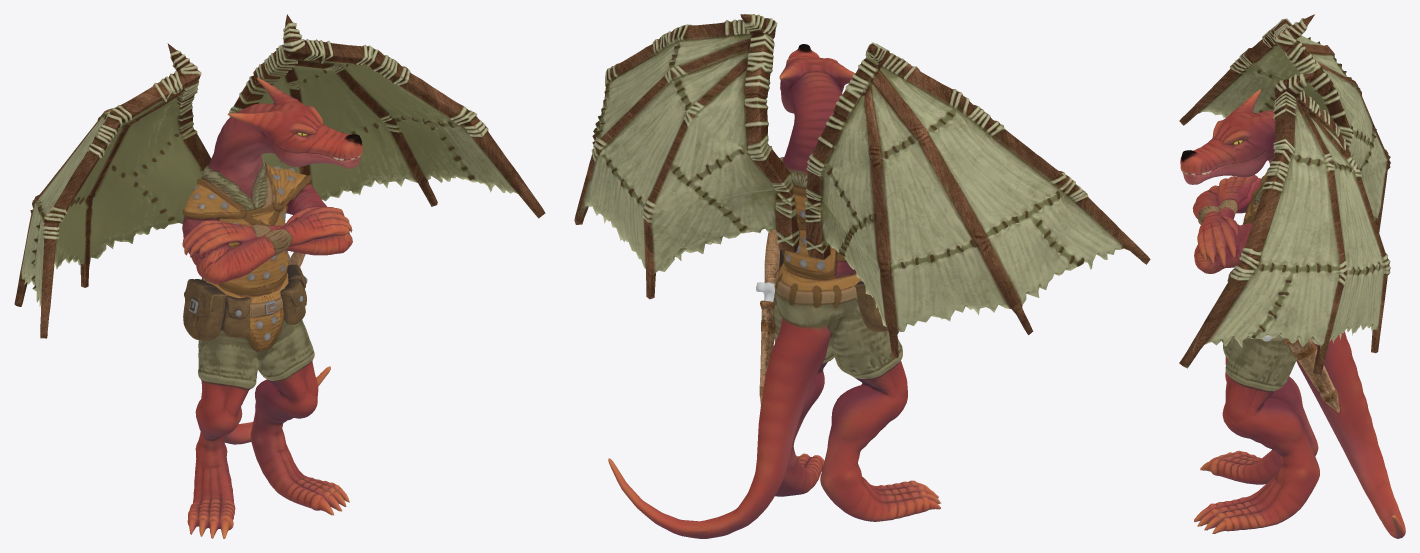
File: MZ4250 - Trex the Kobold.glb
The picture shows the model from 3 angles, left to right: view 1: azimuth 30°, elevation 25°; view 2: azimuth 150°, elevation 25°; view 3: azimuth 270°, elevation 25°; orthographic projection. The views are drawn at different scales.
Parts seen in each view (by area): view 1: Kobold Based body for rigging.004; view 2: Kobold Based body for rigging.004; view 3: Kobold Based body for rigging.004.
Boxes of the visible parts, x1,y1,x2,y2 form: Kobold Based body for rigging.004: [14, 14, 545, 538]; Kobold Based body for rigging.004: [574, 14, 1150, 538]; Kobold Based body for rigging.004: [1179, 14, 1405, 538].
Bounding box in the file's own units: 44.99 × 38.73 × 17.41.
Materials: 4 (4 with a texture image).
